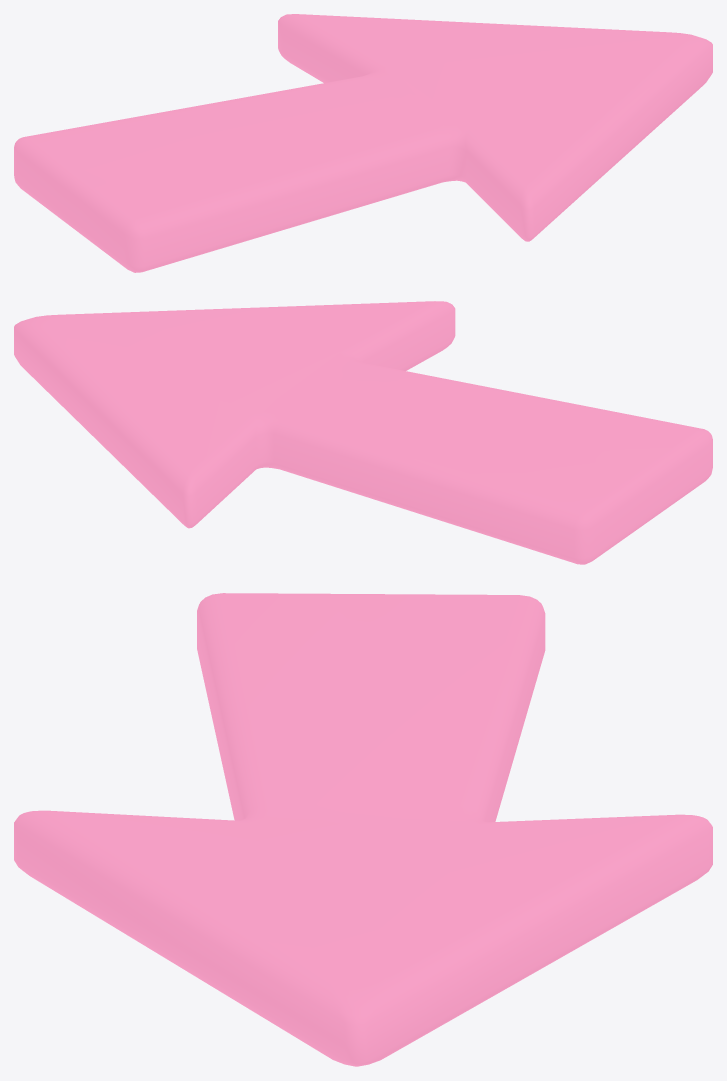
Rendered from arrow.glb.
The picture shows the model from 3 angles, top to bottom: view 1: azimuth 30°, elevation 25°; view 2: azimuth 150°, elevation 25°; view 3: azimuth 270°, elevation 25°; orthographic projection. The views are drawn at different scales.
Parts seen in each view (by area): view 1: Arrow; view 2: Arrow; view 3: Arrow.
Boxes of the visible parts, box(x1,y1,x2,y2) form: Arrow: box(14, 14, 712, 272); Arrow: box(14, 301, 712, 564); Arrow: box(14, 593, 712, 1066).
Bounding box in the file's own units: 3.01 × 0.2343 × 2.11.
